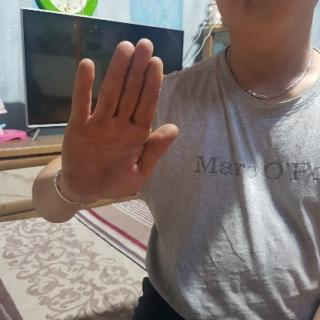SEEN: (57, 35, 179, 207)
